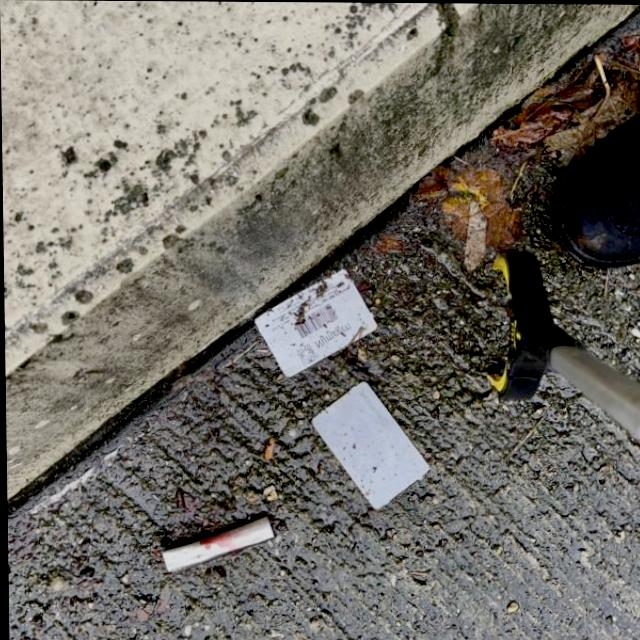Paper: (309, 379, 431, 512), (251, 265, 381, 380)
